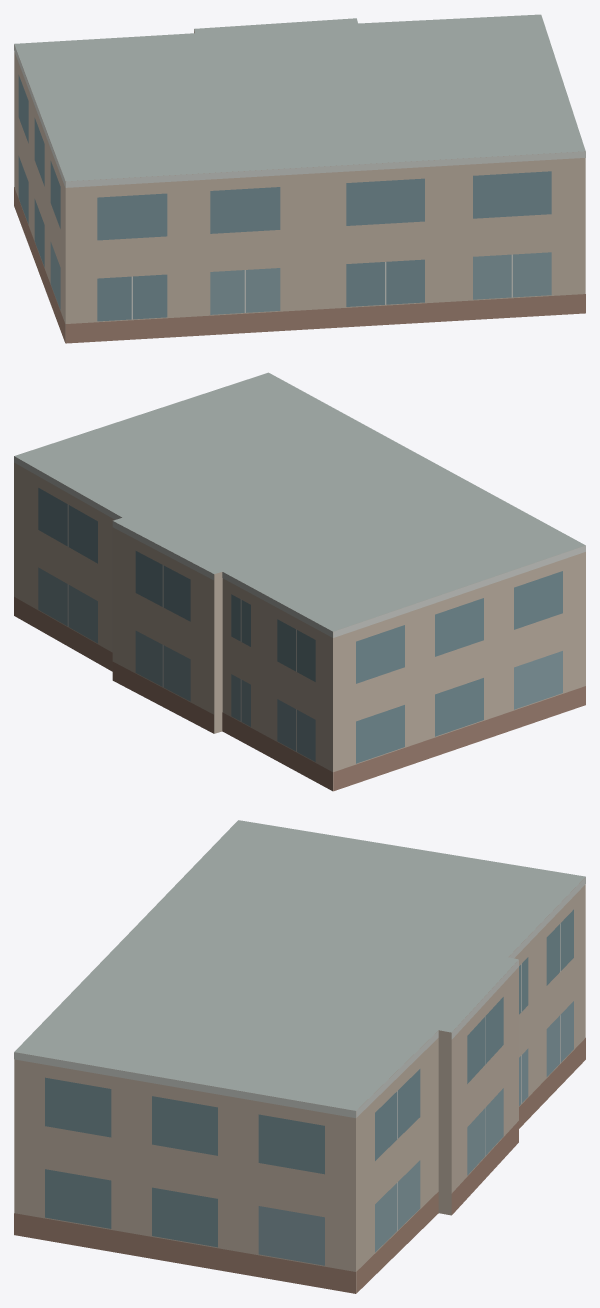
The model's file is survey-upis-32826561.glb.
3 renders of one model, top to bottom at view 1: azimuth 30°, elevation 25°; view 2: azimuth 150°, elevation 25°; view 3: azimuth 270°, elevation 25°, orthographic. The views are drawn at different scales.
Parts seen in each view (by area): view 1: survey-upis-32826561.tmp; view 2: survey-upis-32826561.tmp; view 3: survey-upis-32826561.tmp.
Part boxes in pixels (left/top/right/bottom): survey-upis-32826561.tmp: left=14, top=14, right=585, bottom=343; survey-upis-32826561.tmp: left=14, top=372, right=585, bottom=791; survey-upis-32826561.tmp: left=14, top=820, right=585, bottom=1293.
Bounding box in the file's own units: 20.81 × 6.1 × 17.29.
